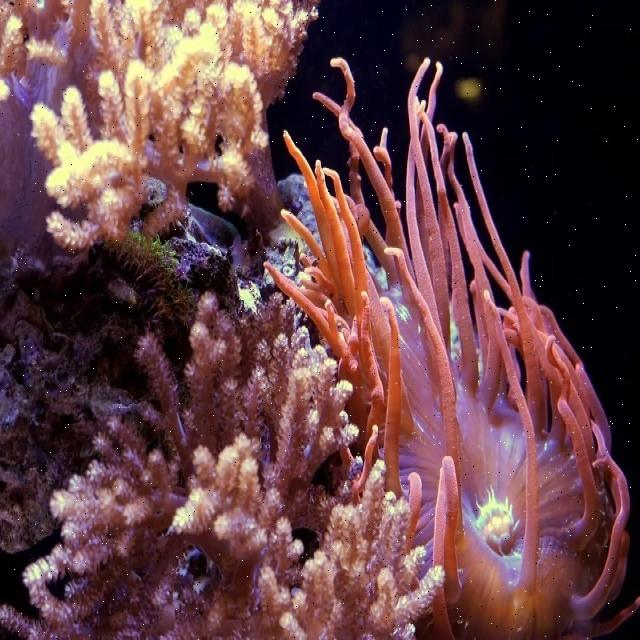reefs: (260, 56, 629, 639), (0, 292, 442, 639), (34, 0, 321, 254)
